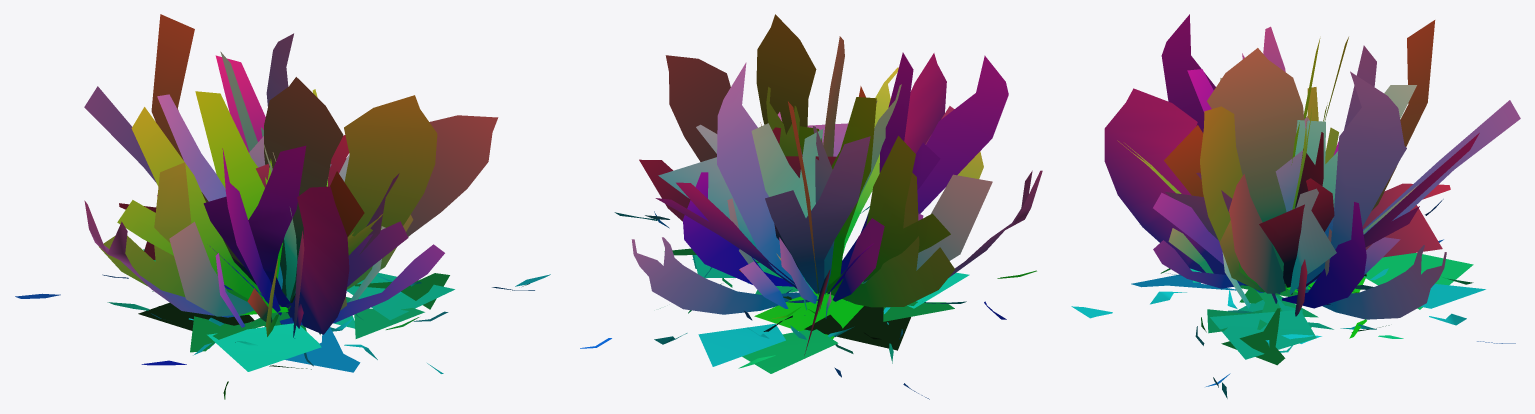
The model's file is Dead_Shrubs_vdknafgha_Low_vdknafgha_VarC_LOD1.fbx.
3 views of the same model, side by side, from view 1: azimuth 30°, elevation 25°; view 2: azimuth 150°, elevation 25°; view 3: azimuth 270°, elevation 25° (orthographic). The views are drawn at different scales.
Parts seen in each view (by area): view 1: _pf0r_VarC_LOD2; view 2: _pf0r_VarC_LOD2; view 3: _pf0r_VarC_LOD2.
Boxes of the visible parts, bbox=[...] form: _pf0r_VarC_LOD2: bbox=[15, 14, 550, 399]; _pf0r_VarC_LOD2: bbox=[580, 14, 1042, 399]; _pf0r_VarC_LOD2: bbox=[1071, 14, 1520, 398].
Bounding box in the file's own units: 83.12 × 46.54 × 74.69.
